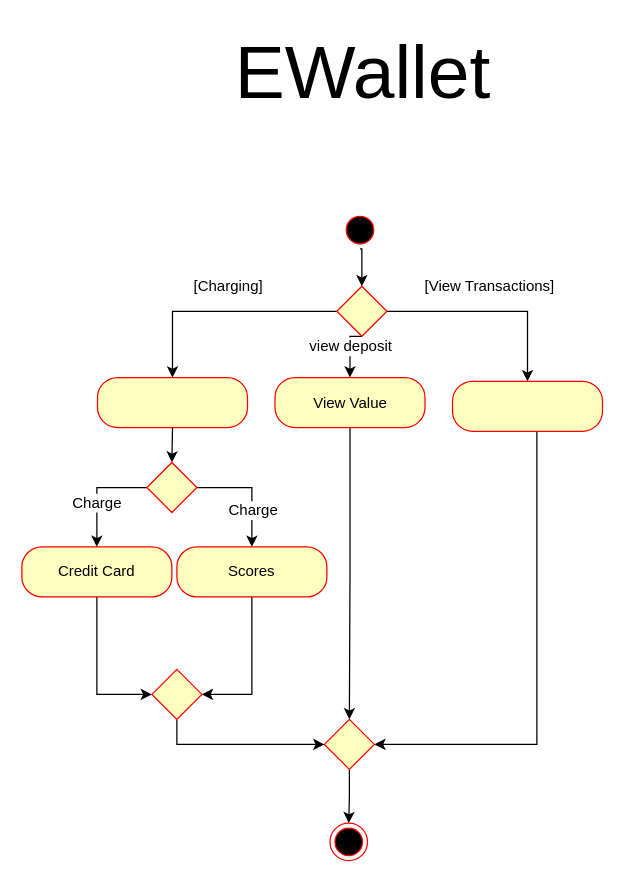
Image size: 625x883. Some labels were removed from this diagram. The shapes that lost their labels are listed below. From the top down, each one's box as (x1, y1, x2, y2) in pixels, then its label:
(96, 376, 248, 428): Request for Charge E wallet
(451, 380, 602, 431): View Transactios
